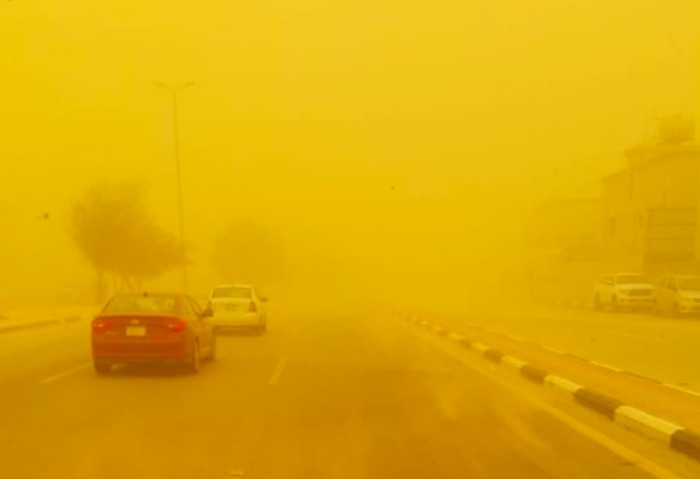car: (88, 291, 216, 376), (207, 284, 264, 334), (593, 272, 654, 310), (653, 272, 699, 320)
